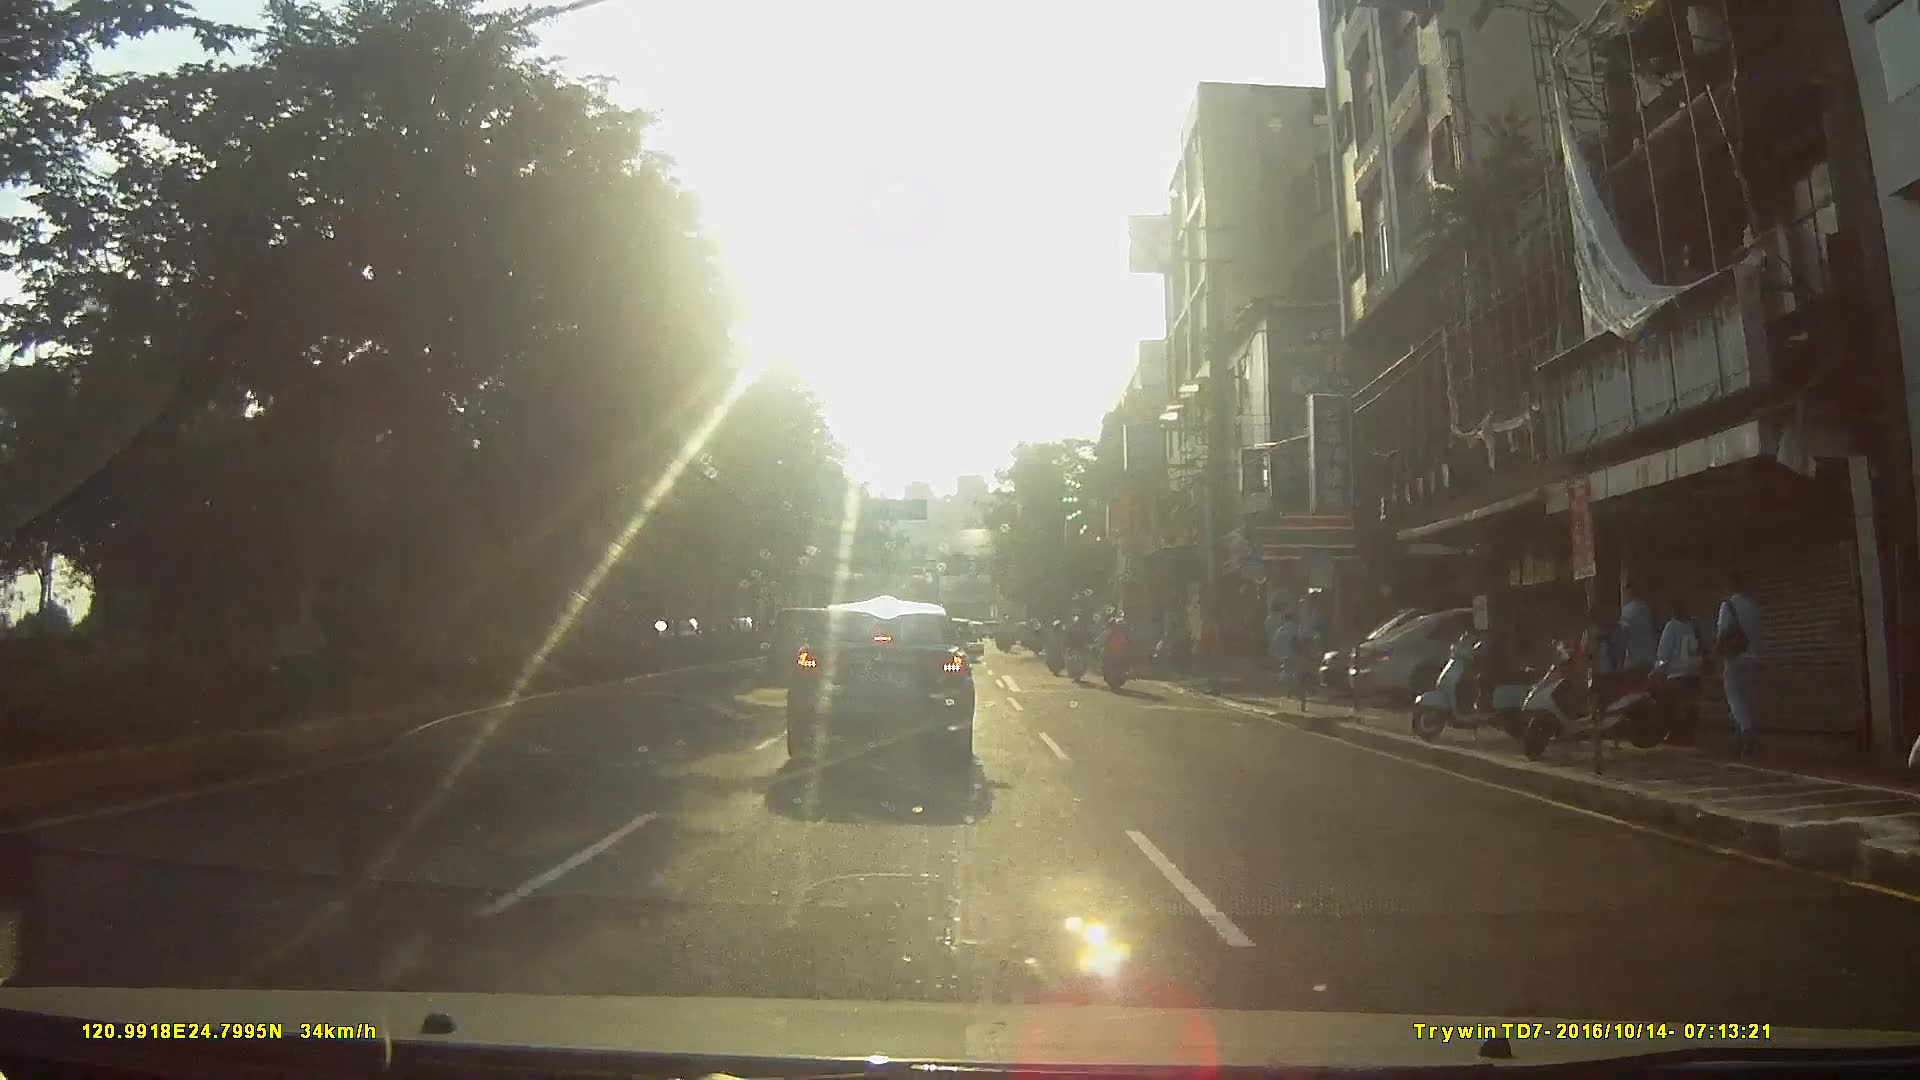pedestrian: (1711, 571, 1764, 748), (1614, 572, 1663, 720), (1657, 599, 1703, 728), (1268, 605, 1307, 703)
rider: (1101, 615, 1138, 695), (1063, 615, 1091, 688), (1042, 620, 1069, 679)
vehicle: (770, 590, 995, 784), (1344, 605, 1639, 713)
